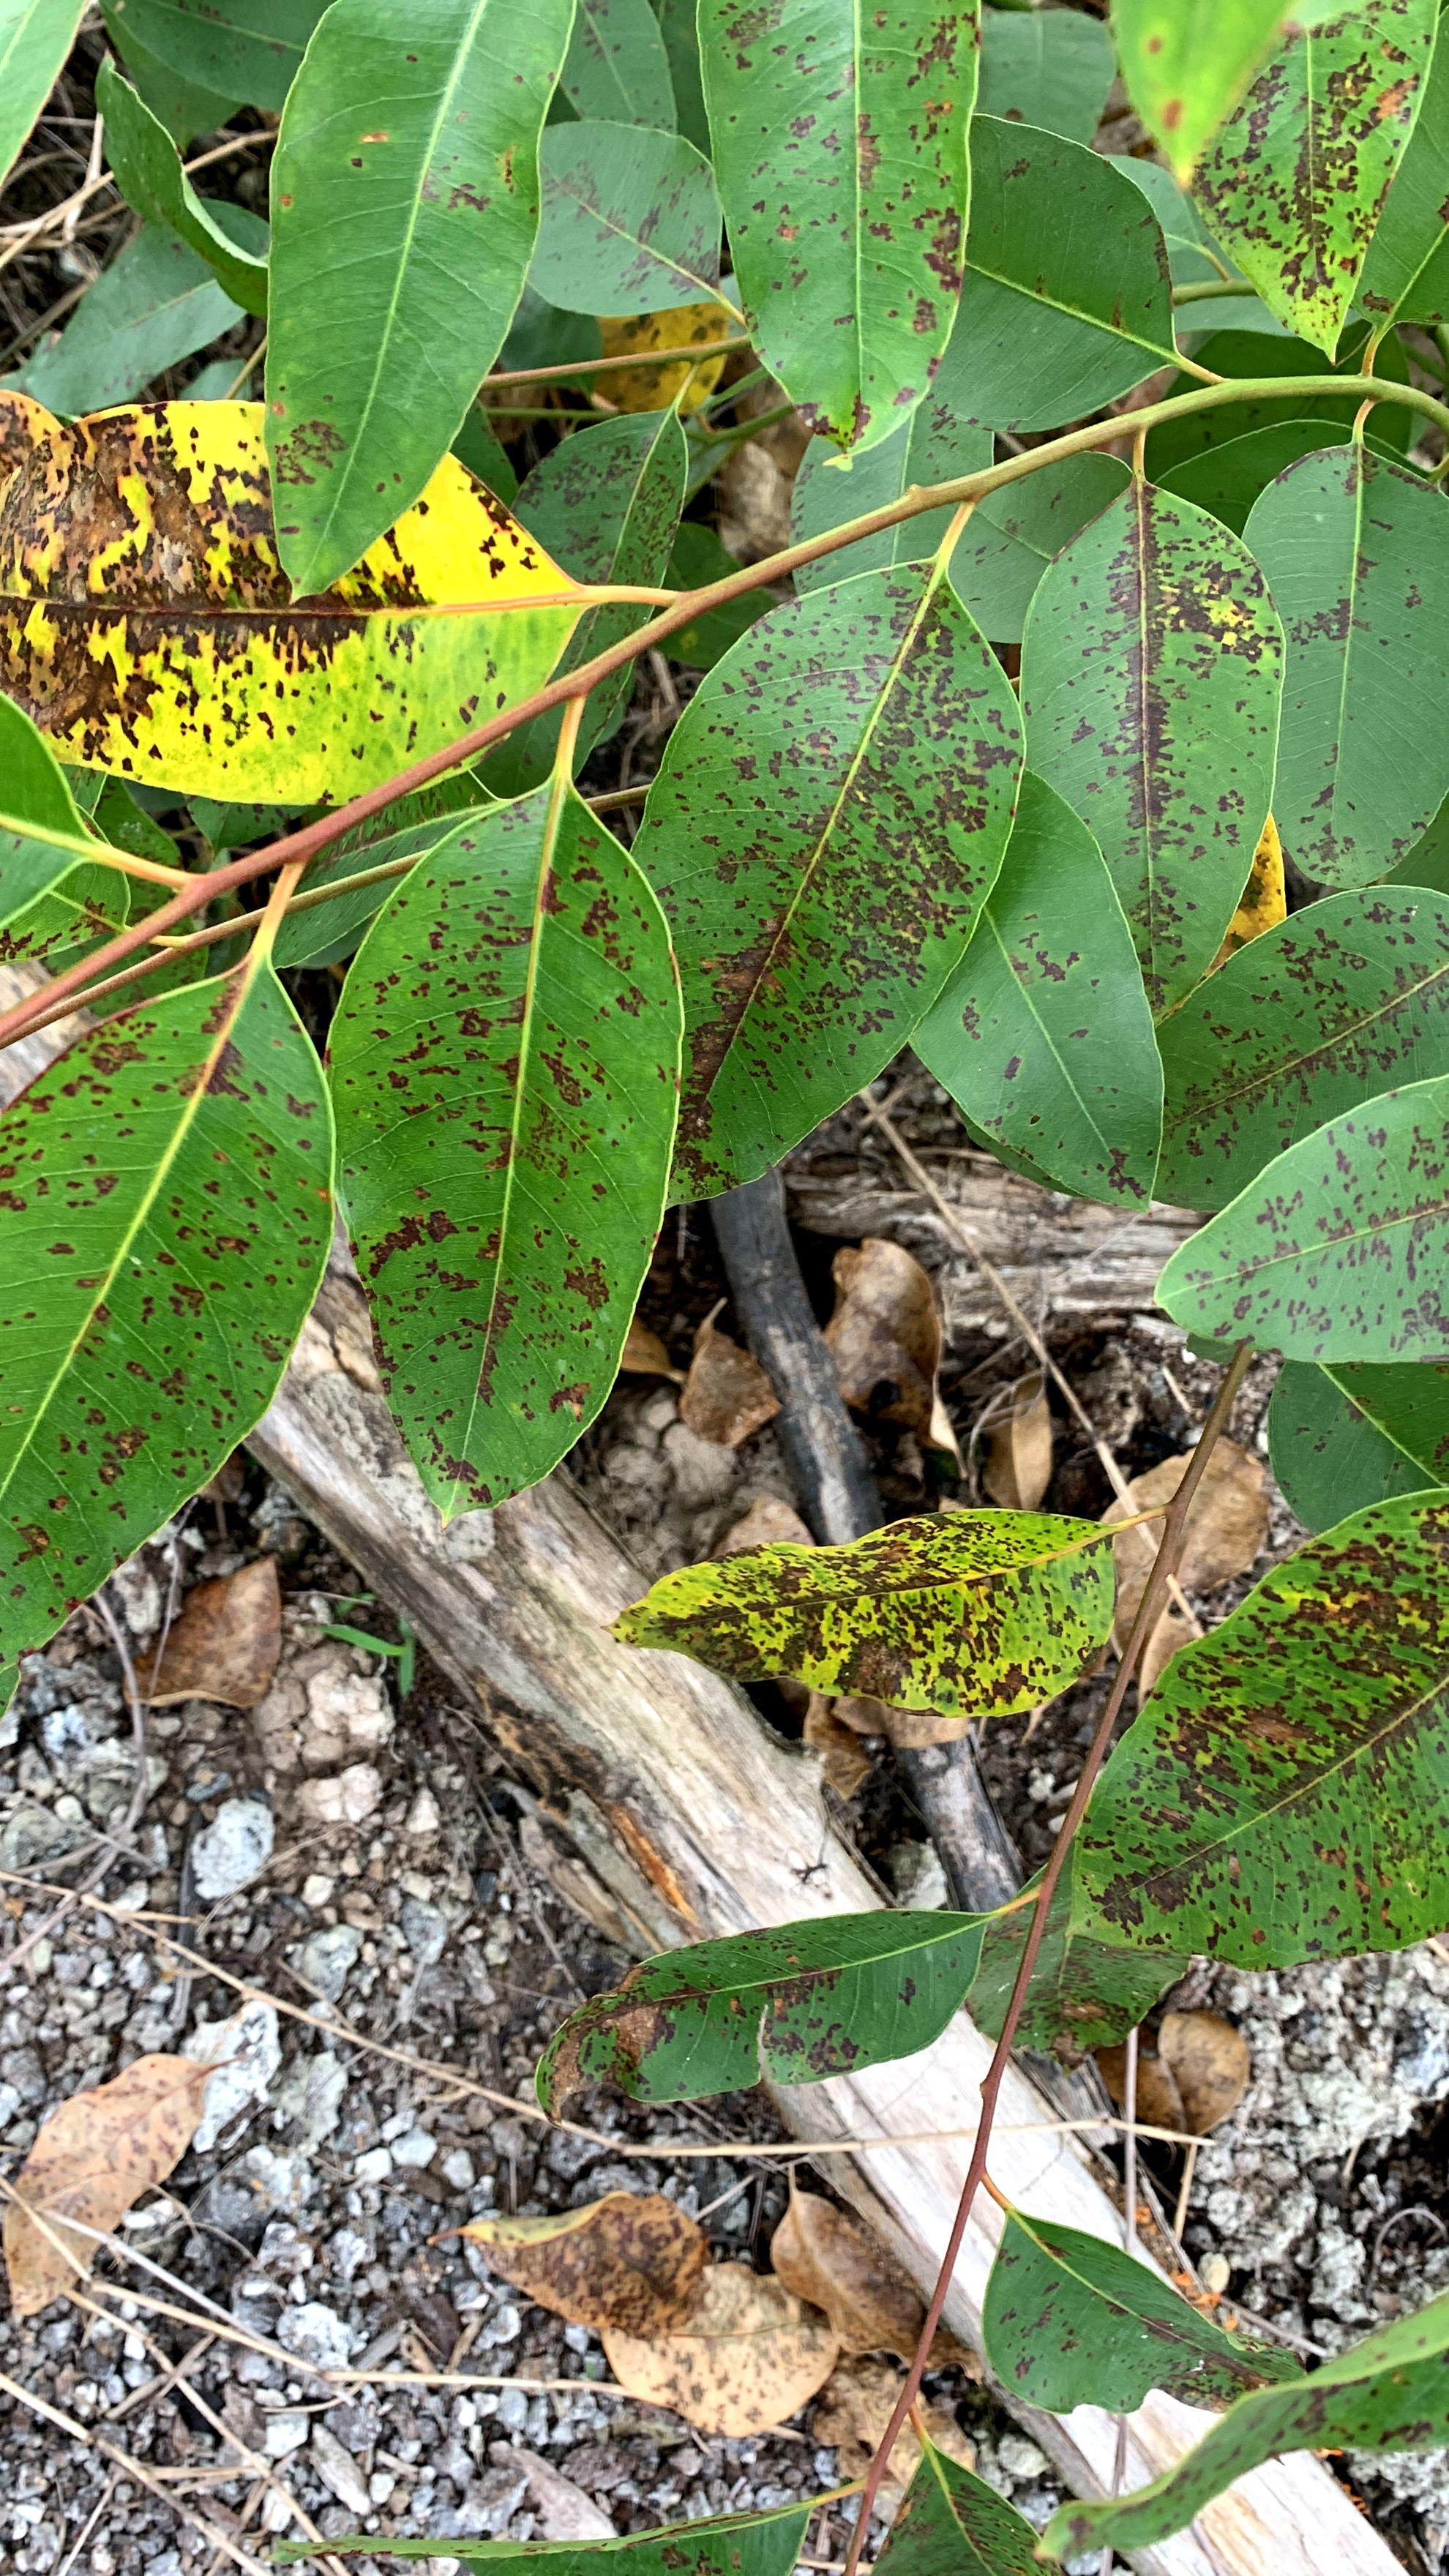Xanthomonas: (0, 387, 559, 803), (0, 955, 326, 1651), (334, 840, 669, 1513), (672, 552, 1014, 1173), (1067, 1507, 1449, 1989), (621, 1495, 1134, 1736), (1062, 455, 1288, 985), (738, 0, 982, 469), (1148, 867, 1449, 1223), (1182, 0, 1438, 366), (1162, 1083, 1449, 1380), (1263, 446, 1430, 901), (984, 2208, 1284, 2443), (518, 1928, 876, 2114)
